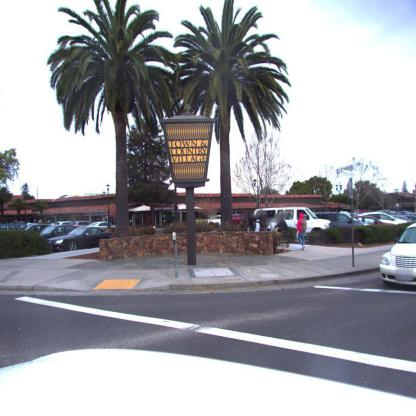car: (254, 206, 330, 241), (379, 223, 416, 288), (48, 223, 115, 252), (355, 212, 406, 226)
person: (296, 212, 309, 250)
